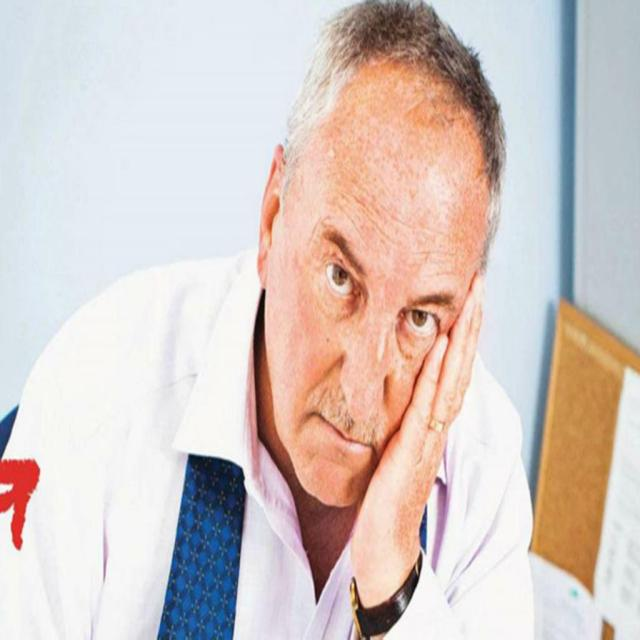Face: (272, 66, 489, 519)
